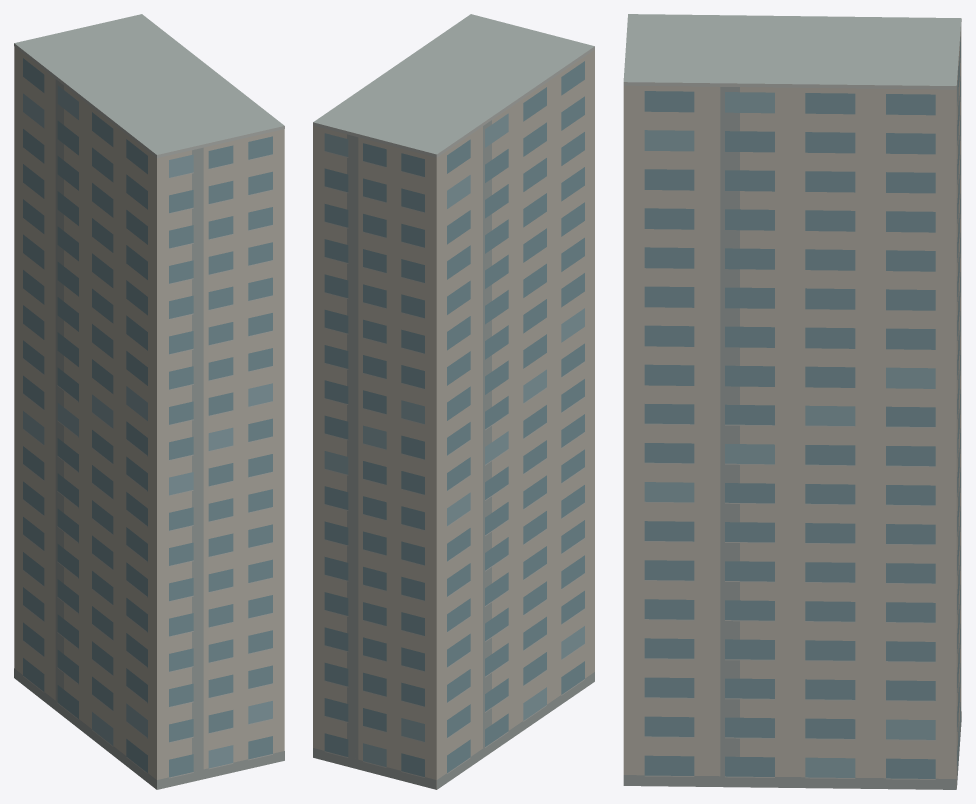
File: residential-039dfa28-dfda-45a8-bd43-e7eb2bfc1cf6.glb
3 renders of one model, left to right at view 1: azimuth 30°, elevation 25°; view 2: azimuth 150°, elevation 25°; view 3: azimuth 270°, elevation 25°, orthographic. The views are drawn at different scales.
Visible parts, largest first — view 1: residential-039dfa28-dfda-45a8-bd43-e7eb2bfc1cf6.tmp; view 2: residential-039dfa28-dfda-45a8-bd43-e7eb2bfc1cf6.tmp; view 3: residential-039dfa28-dfda-45a8-bd43-e7eb2bfc1cf6.tmp.
Boxes of the visible parts, box(x1,y1,x2,y2) form: residential-039dfa28-dfda-45a8-bd43-e7eb2bfc1cf6.tmp: box(14, 14, 284, 789); residential-039dfa28-dfda-45a8-bd43-e7eb2bfc1cf6.tmp: box(313, 14, 594, 789); residential-039dfa28-dfda-45a8-bd43-e7eb2bfc1cf6.tmp: box(623, 14, 961, 789).
Bounding box in the file's own units: 10.56 × 48 × 20.9.
